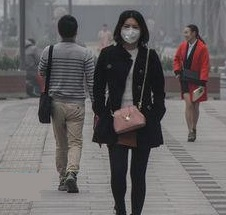person: (93, 8, 166, 215), (36, 14, 93, 194), (172, 22, 211, 143), (22, 38, 39, 98), (96, 22, 115, 49)
